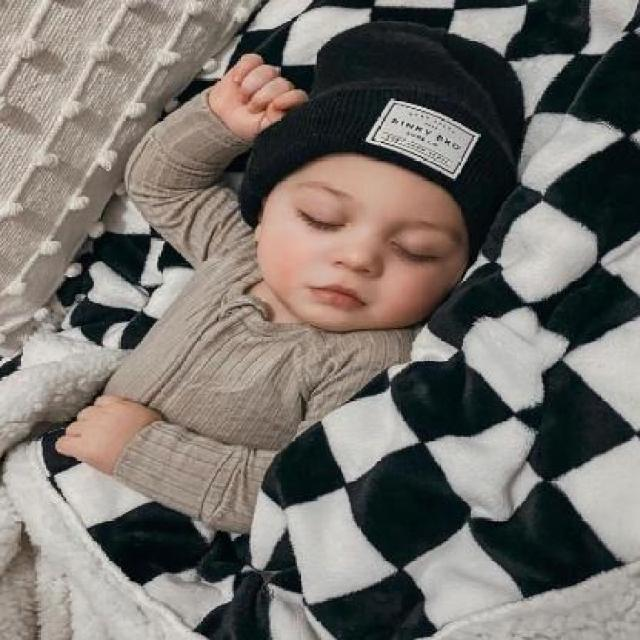baby: (48, 22, 522, 536)
